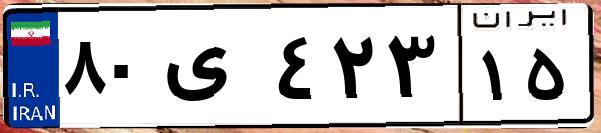0: (110, 28, 158, 98)
1: (475, 38, 525, 113)
2: (330, 28, 385, 110)
3: (385, 28, 445, 110)
4: (270, 28, 330, 110)
5: (525, 38, 570, 115)
8: (57, 26, 110, 100)
ی: (158, 20, 270, 120)
